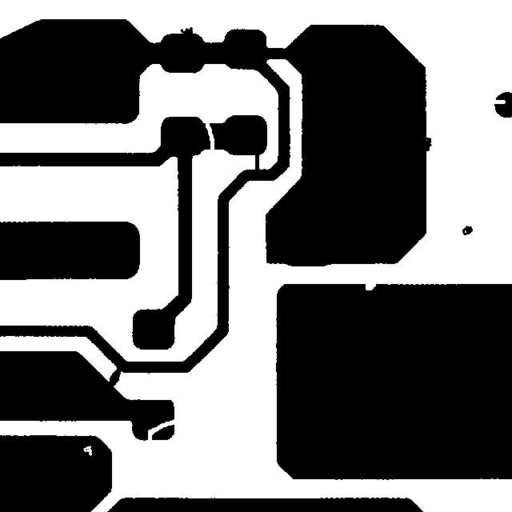copper: (454, 218, 480, 242)
mousebite: (358, 274, 383, 298), (485, 92, 511, 111)
open: (140, 411, 184, 450), (197, 111, 222, 158)
pin-hole: (75, 438, 99, 463)
short: (100, 358, 130, 394), (247, 141, 267, 179)
spur: (414, 130, 439, 158), (173, 19, 200, 43)
